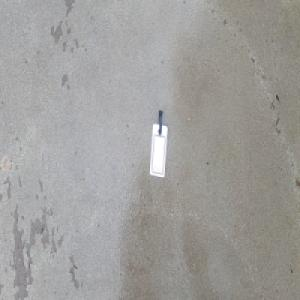LuggageTag: (148, 108, 168, 178)
